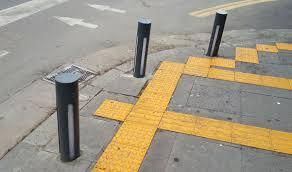Animal: (58, 72, 86, 166), (202, 12, 228, 60), (129, 23, 151, 76)
